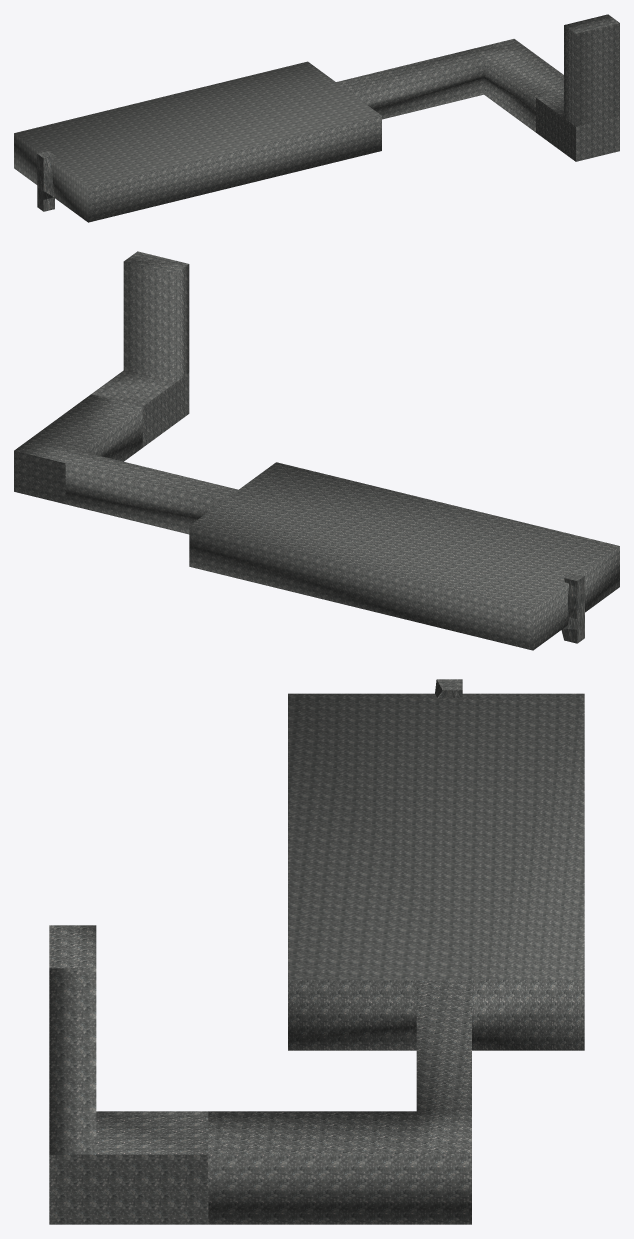
Rendered from Bunker.fbx.
3 views of the same model, one above another, from view 1: azimuth 30°, elevation 25°; view 2: azimuth 150°, elevation 25°; view 3: azimuth 270°, elevation 25° (orthographic). The views are drawn at different scales.
Parts seen in each view (by area): view 1: Room, RedHeat; view 2: Room, RedHeat; view 3: Room.
Part boxes in pixels (x1,y1,x2,y2): Room: (14, 14, 619, 222); RedHeat: (37, 151, 54, 211); Room: (14, 251, 619, 650); RedHeat: (561, 573, 584, 643); Room: (49, 693, 584, 1224).
Bounding box in the file's own units: 8454 × 2407 × 4090.
Materials: 1 (1 with a texture image).
